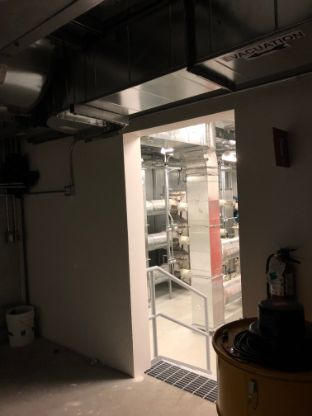Duct: (27, 1, 312, 146)
